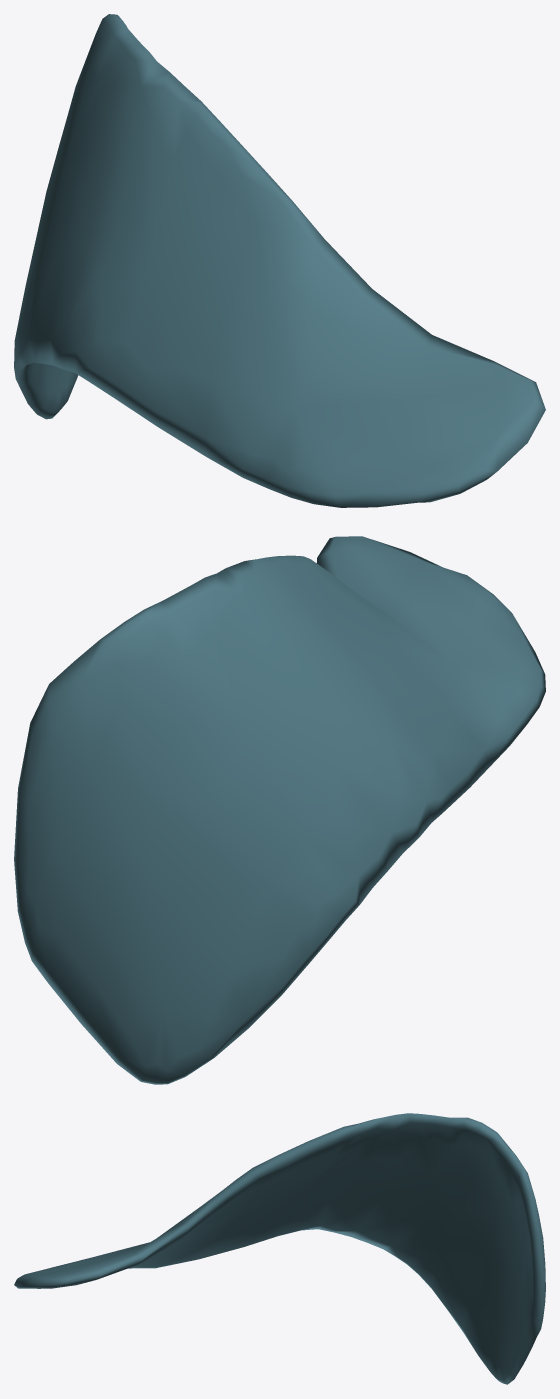
The model's file is Biceps_femoris_long_head_fibular_head_right.glb.
3 views of the same model, one above another, from view 1: azimuth 30°, elevation 25°; view 2: azimuth 150°, elevation 25°; view 3: azimuth 270°, elevation 25° (orthographic). The views are drawn at different scales.
Visible parts, largest first — view 1: Long_head_of_biceps_femoris_on_fibular_head.r_Generated_Mesh; view 2: Long_head_of_biceps_femoris_on_fibular_head.r_Generated_Mesh; view 3: Long_head_of_biceps_femoris_on_fibular_head.r_Generated_Mesh.
Boxes of the visible parts, bbox=[...] form: Long_head_of_biceps_femoris_on_fibular_head.r_Generated_Mesh: bbox=[14, 14, 545, 507]; Long_head_of_biceps_femoris_on_fibular_head.r_Generated_Mesh: bbox=[14, 536, 545, 1084]; Long_head_of_biceps_femoris_on_fibular_head.r_Generated_Mesh: bbox=[14, 1113, 545, 1384].
Size of the model in its own units: 0.0073 by 0.0102 by 0.0177.
